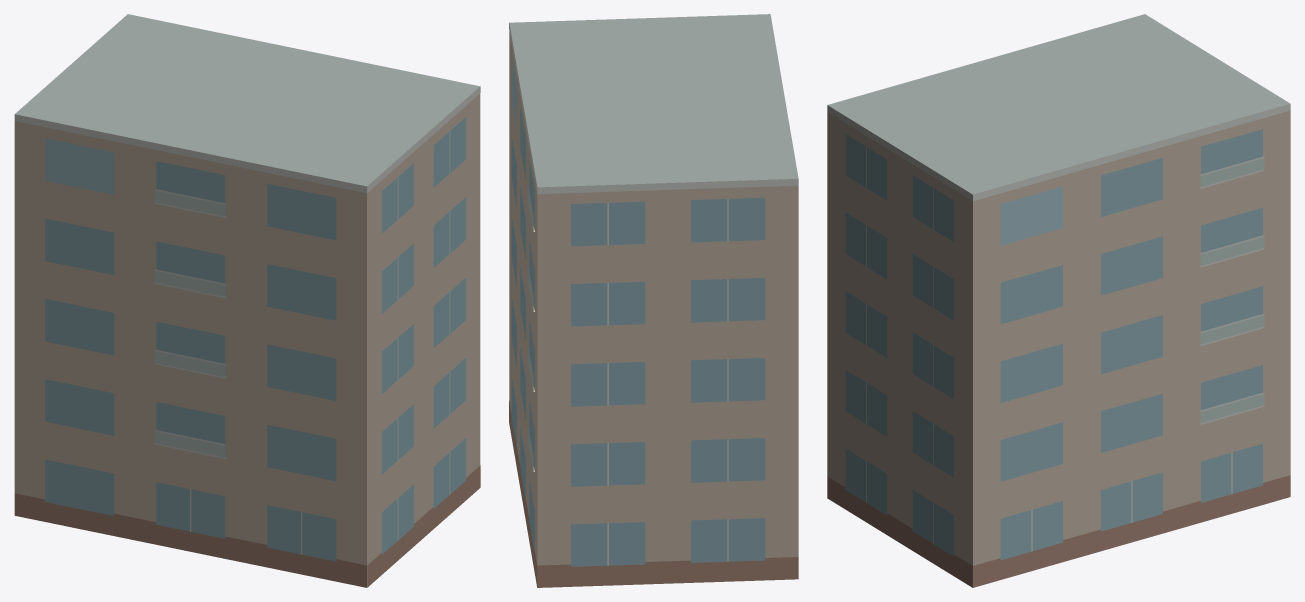
The model's file is survey-upis-32853618.glb.
3 renders of one model, left to right at view 1: azimuth 30°, elevation 25°; view 2: azimuth 150°, elevation 25°; view 3: azimuth 270°, elevation 25°, orthographic. The views are drawn at different scales.
Visible parts, largest first — view 1: survey-upis-32853618.tmp; view 2: survey-upis-32853618.tmp; view 3: survey-upis-32853618.tmp.
Part boxes in pixels (left/top/right/bottom): survey-upis-32853618.tmp: left=14, top=14, right=480, bottom=587; survey-upis-32853618.tmp: left=509, top=14, right=798, bottom=587; survey-upis-32853618.tmp: left=827, top=14, right=1290, bottom=587.
Size of the model in its own units: 14.19 by 14.4 by 15.39.
